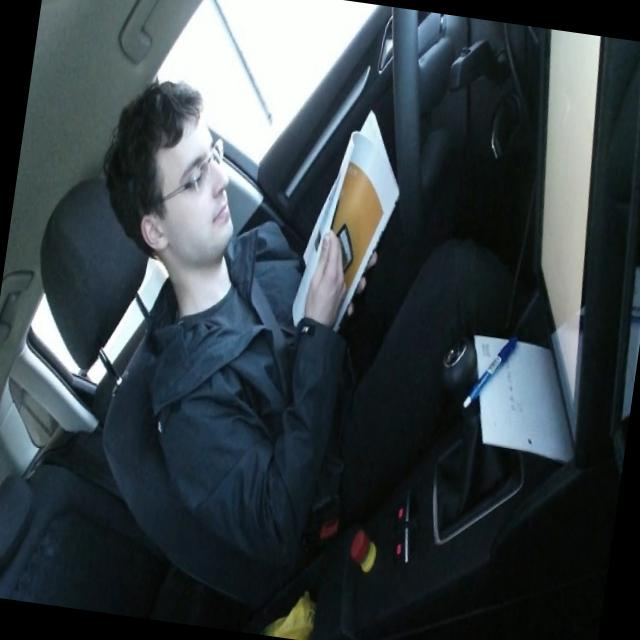pen: (462, 326, 518, 414)
